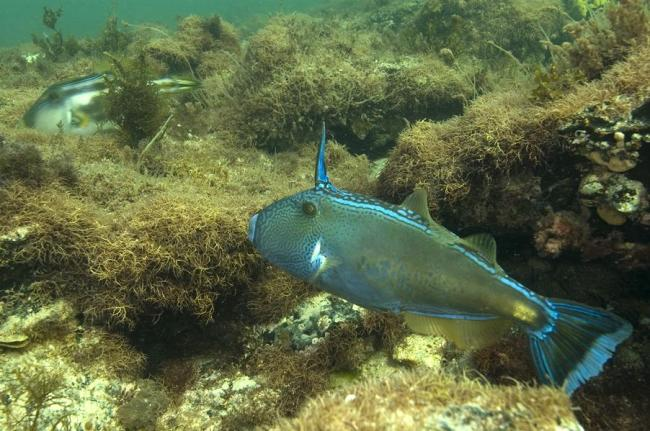fish: (247, 118, 634, 396)
